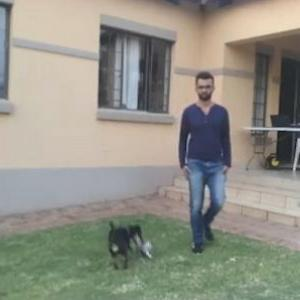follow: (176, 70, 235, 252)
